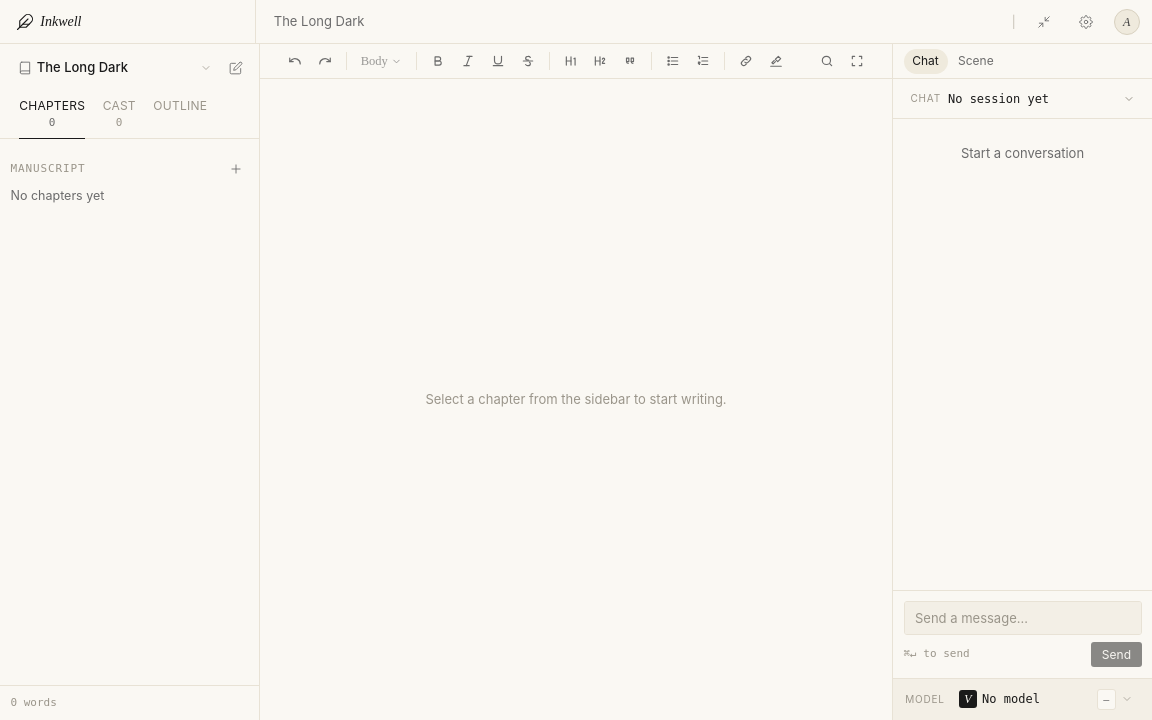
EditorPage chat panel + modals (F55) › clicking the sidebar story-picker opens the StoryPicker modal
This screenshot has width=1152, height=720.
Click the button with test id "sidebar-story-picker".
click(115, 68)  # box [10,53,219,83]
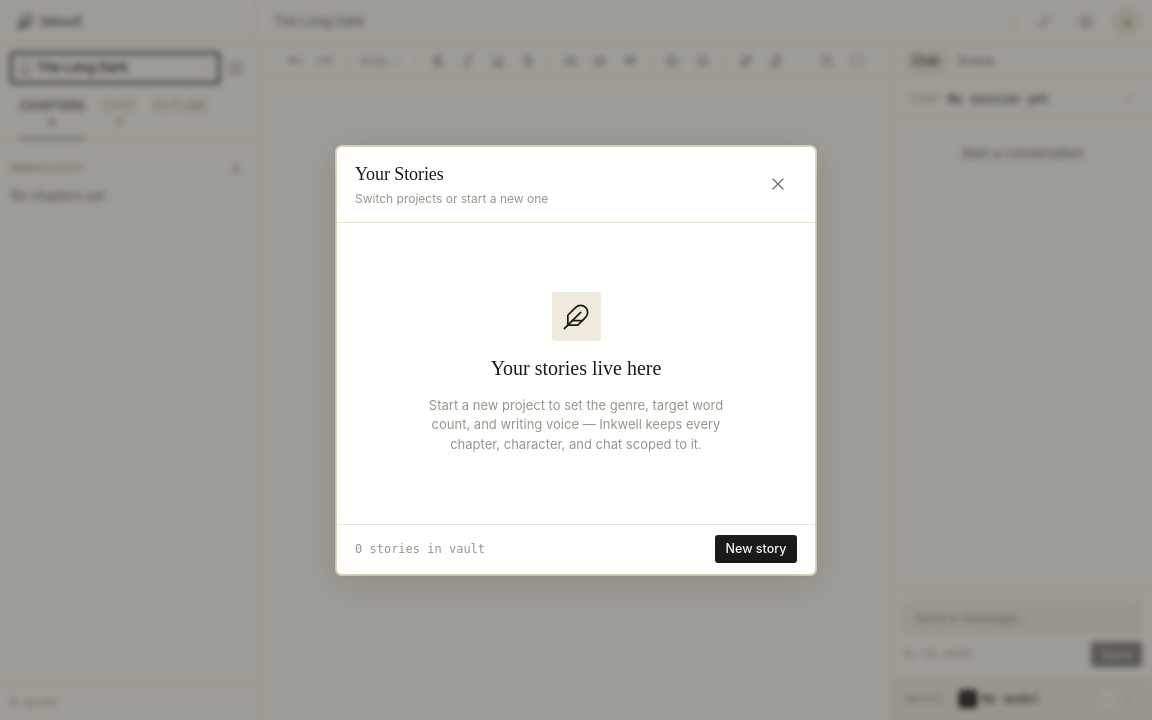
expect the dialog is shown: met, box [336,146,816,574]
